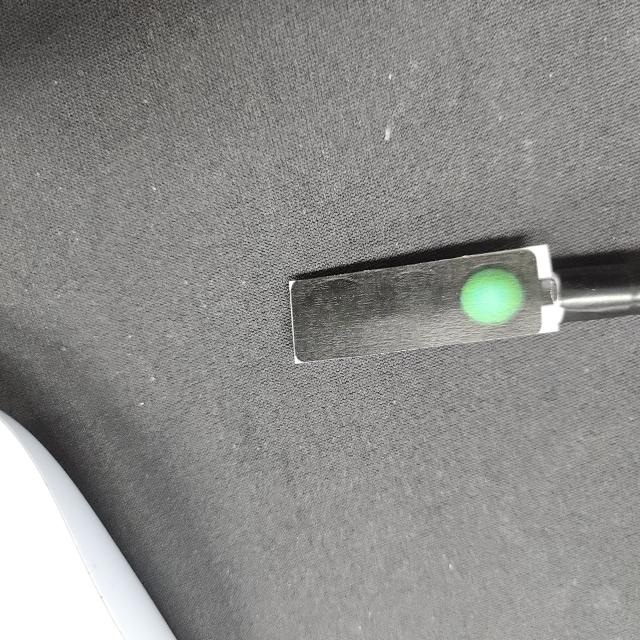traffic light: (286, 236, 565, 364)
